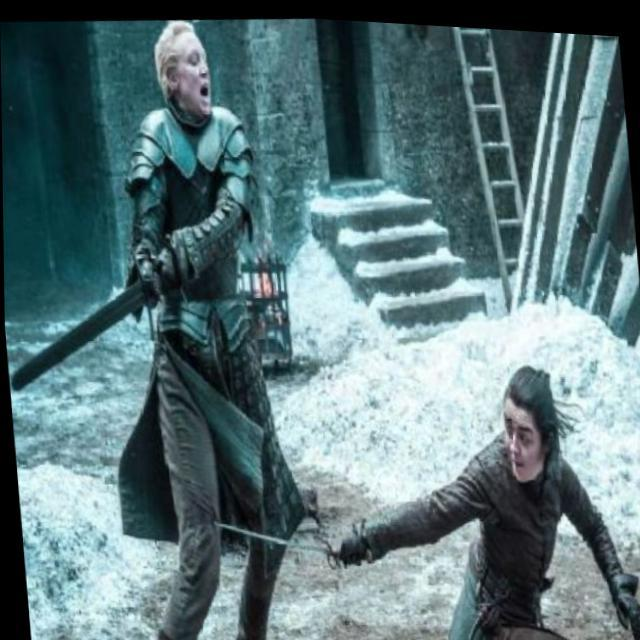weapon: (313, 339, 640, 640)
